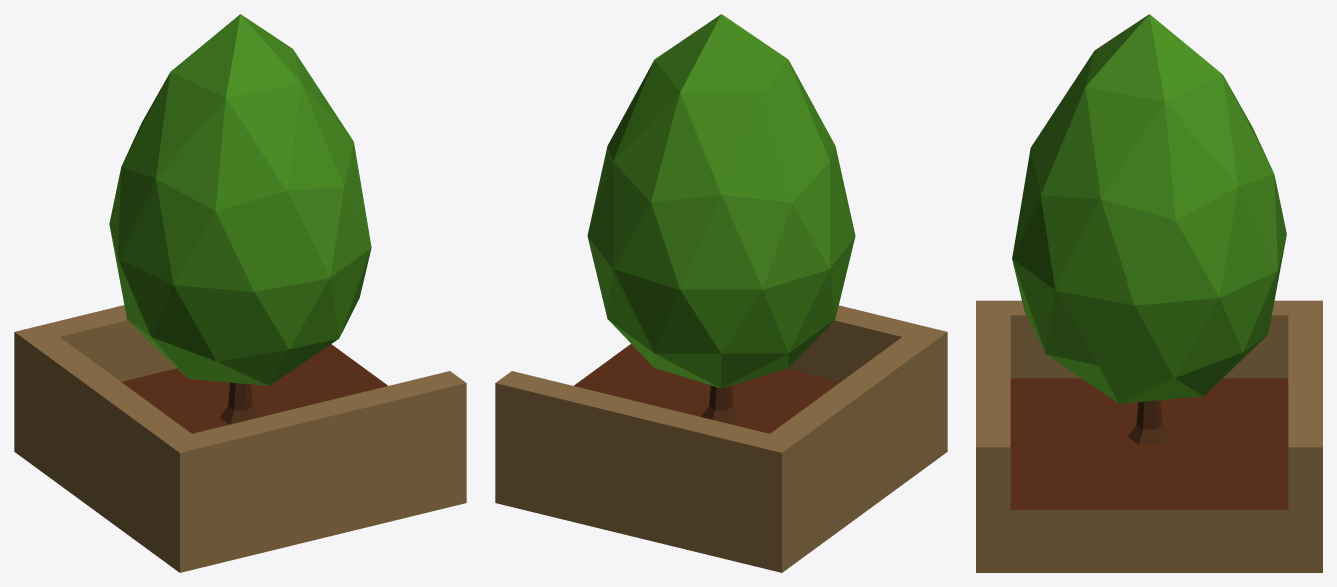
The model's file is Garden Bed End.fbx.
3 views of the same model, side by side, from view 1: azimuth 30°, elevation 25°; view 2: azimuth 150°, elevation 25°; view 3: azimuth 270°, elevation 25° (orthographic). The views are drawn at different scales.
Visible parts, largest first — view 1: Garden Bed End; view 2: Garden Bed End; view 3: Garden Bed End.
Part boxes in pixels (x1,y1,x2,y2): Garden Bed End: (14, 14, 466, 572); Garden Bed End: (495, 14, 947, 572); Garden Bed End: (976, 14, 1322, 572).
Size of the model in its own units: 100 by 155 by 100.
